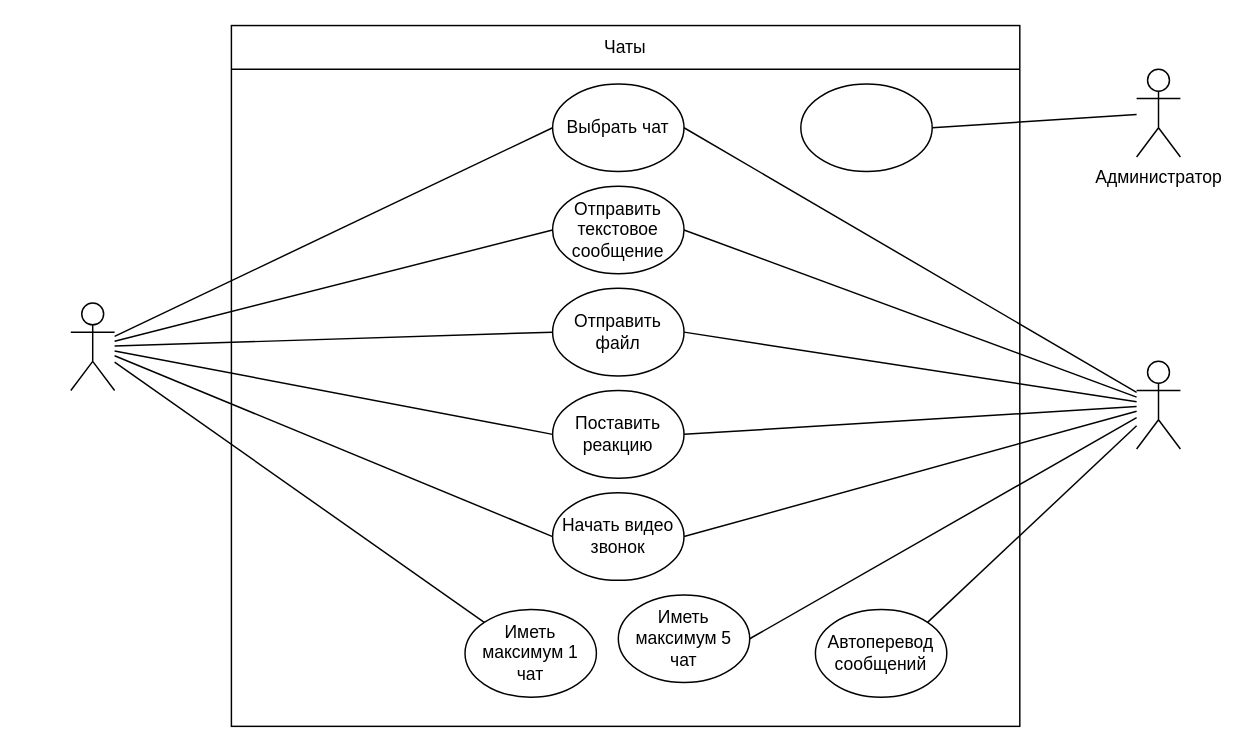
This 1247x752 diagram has some shape labels left out. Here are the shapes that lost their labels. From the top down, the box of each, then its label:
(799, 82, 932, 172): Проверь навыки человека
(69, 301, 115, 391): Авторизованный пользователь
(1135, 360, 1180, 449): Пользователь с подпиской
